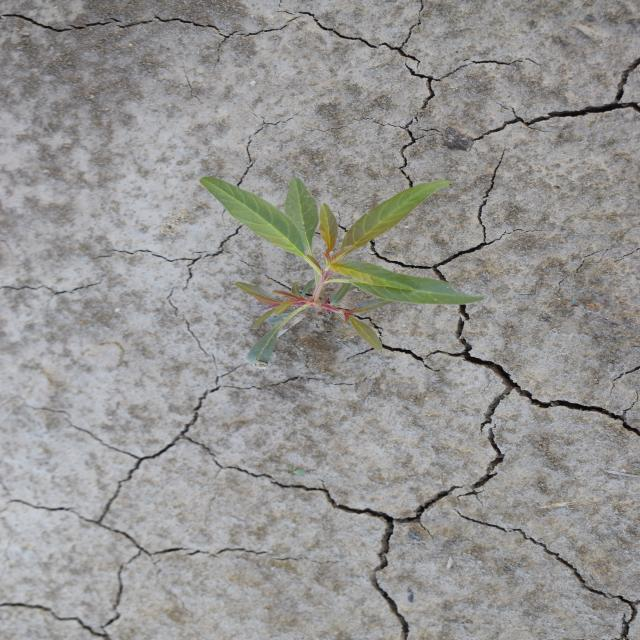Waterhemp: (196, 175, 488, 373)
